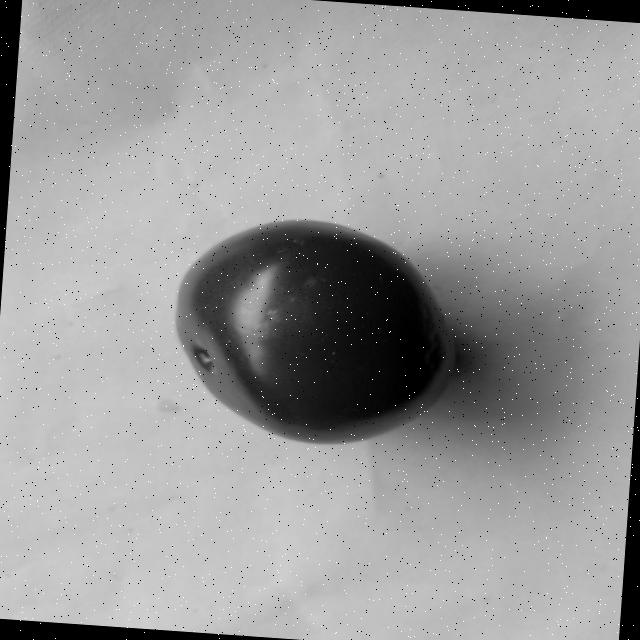Ripe: (164, 207, 472, 458)
